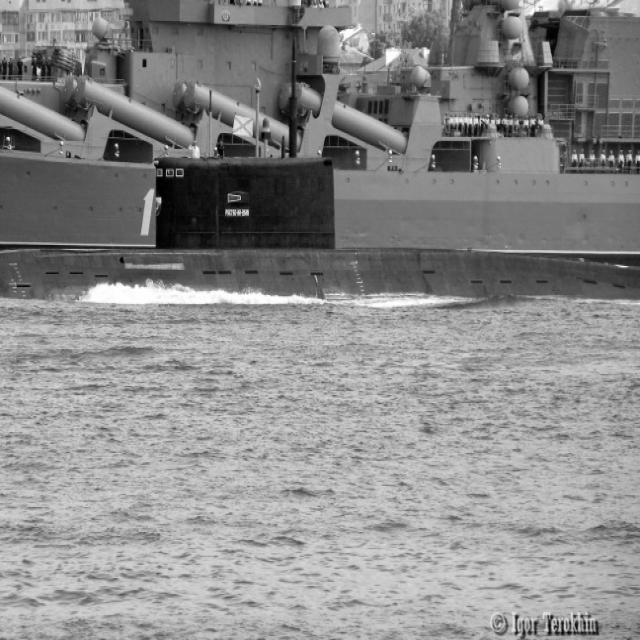submarine: (1, 140, 640, 294)
